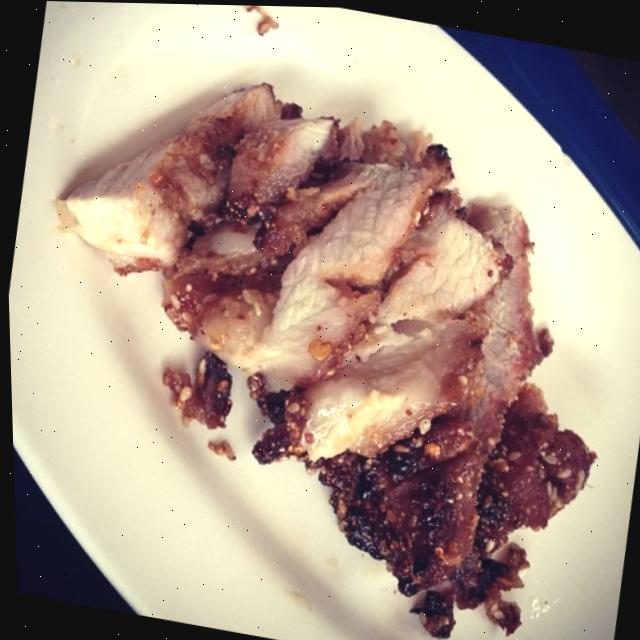猪肉菜式: (1, 32, 640, 640)
